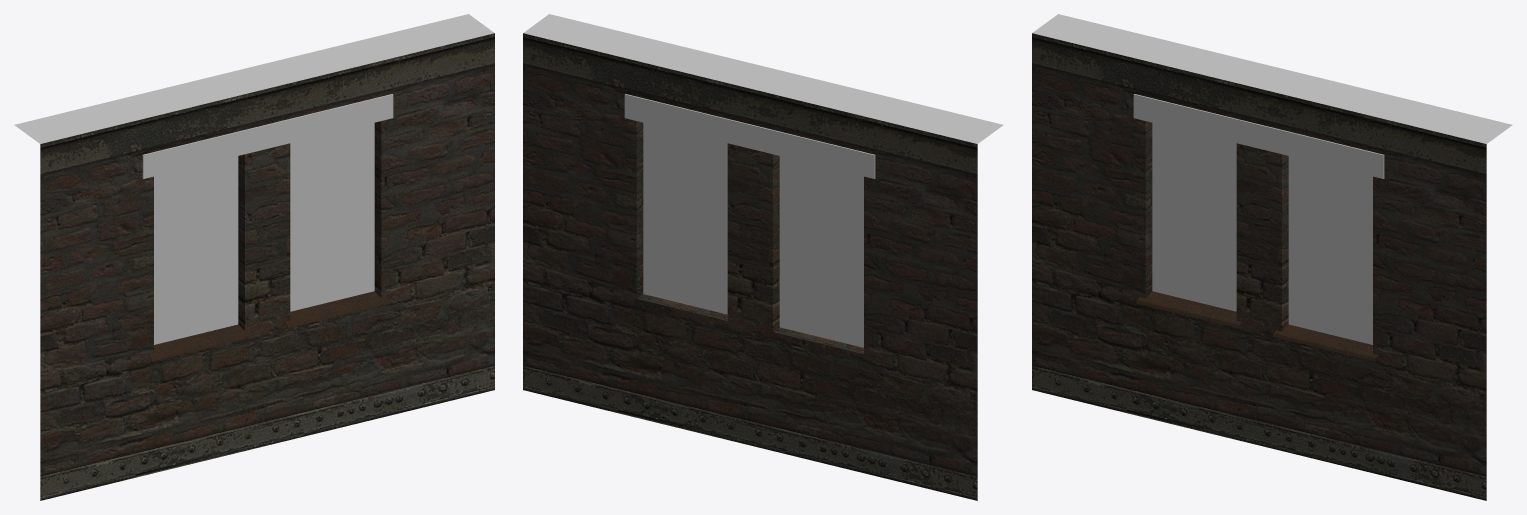
Rendered from windows_hr_1.fbx.
3 renders of one model, left to right at view 1: azimuth 30°, elevation 25°; view 2: azimuth 150°, elevation 25°; view 3: azimuth 330°, elevation 25°, orthographic.
Visible parts, largest first — view 1: windows_hr_1; view 2: windows_hr_1; view 3: windows_hr_1.
Part boxes in pixels (x1,y1,x2,y2): windows_hr_1: [14, 14, 494, 500]; windows_hr_1: [523, 14, 1003, 500]; windows_hr_1: [1032, 14, 1512, 500].
Bounding box in the file's own units: 4 × 0.465 × 3.
